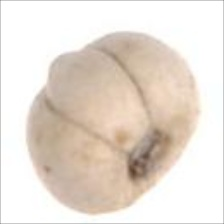L5: (39, 45, 151, 153), (123, 119, 180, 184)
L6: (24, 29, 204, 217)
